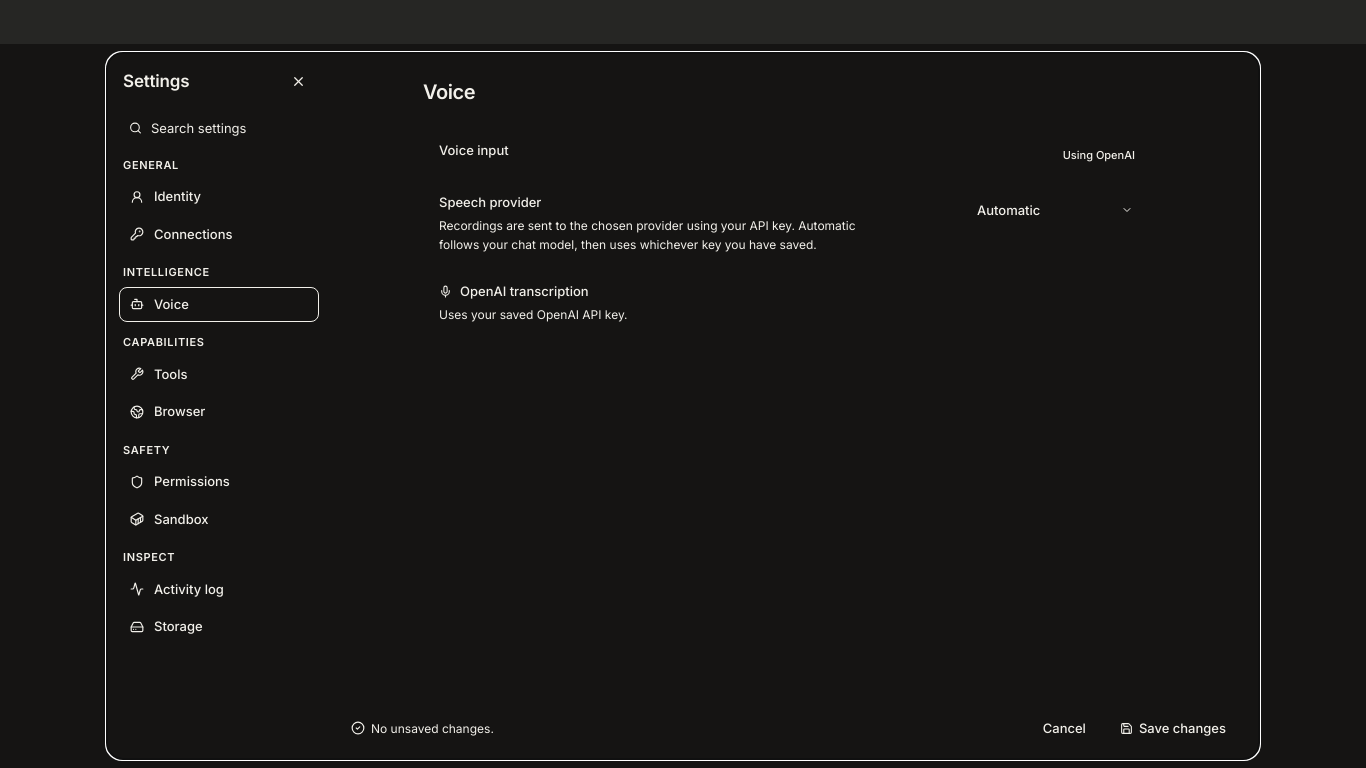
SettingsModal › shows which saved API key voice input uses
This screenshot has width=1366, height=768.
Expected: the text "Using OpenAI" is shown, top-left (1063, 148), bottom-right (1135, 162)
Expected: the text "Uses your saved OpenAI API key." is shown, top-left (439, 305), bottom-right (628, 324)
What coordinates should you click on to do the following:
click the button with aria-label "Speech provider"
I would click on:
 (1055, 210)
Its box is top-left (967, 193), bottom-right (1143, 227).
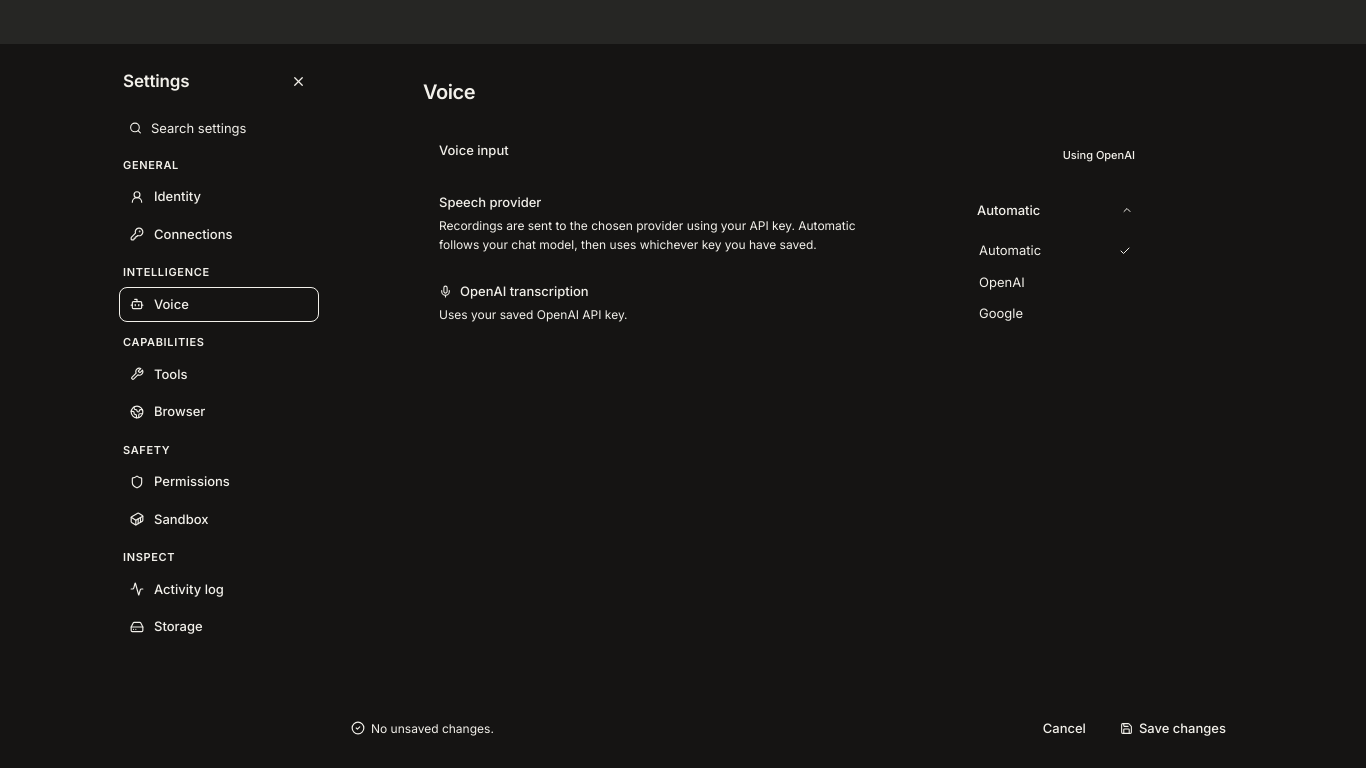
What coordinates should you click on to do the following:
click the option "Google"
I would click on:
 (1055, 314)
Its box is top-left (971, 298), bottom-right (1139, 330).
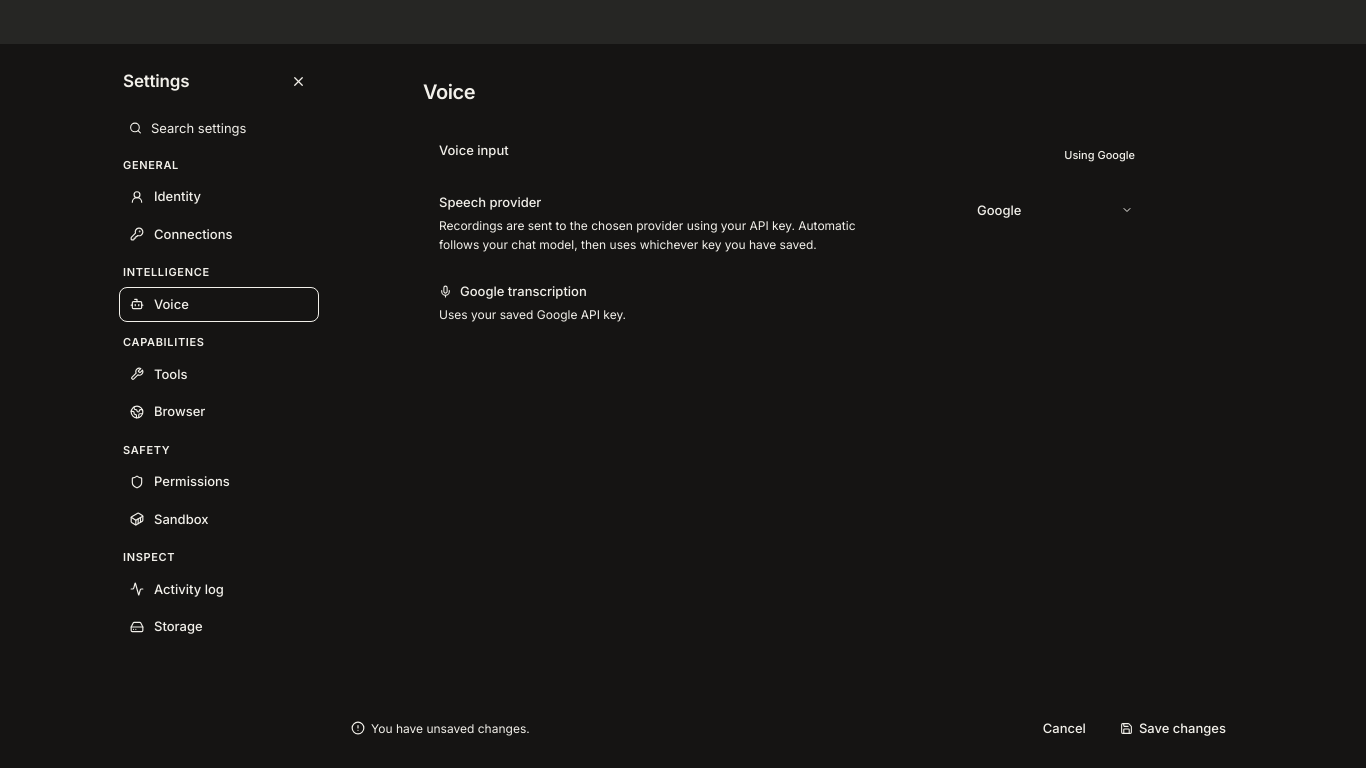
Now the text "Using Google" is shown, box top-left (1064, 148), bottom-right (1135, 162)
